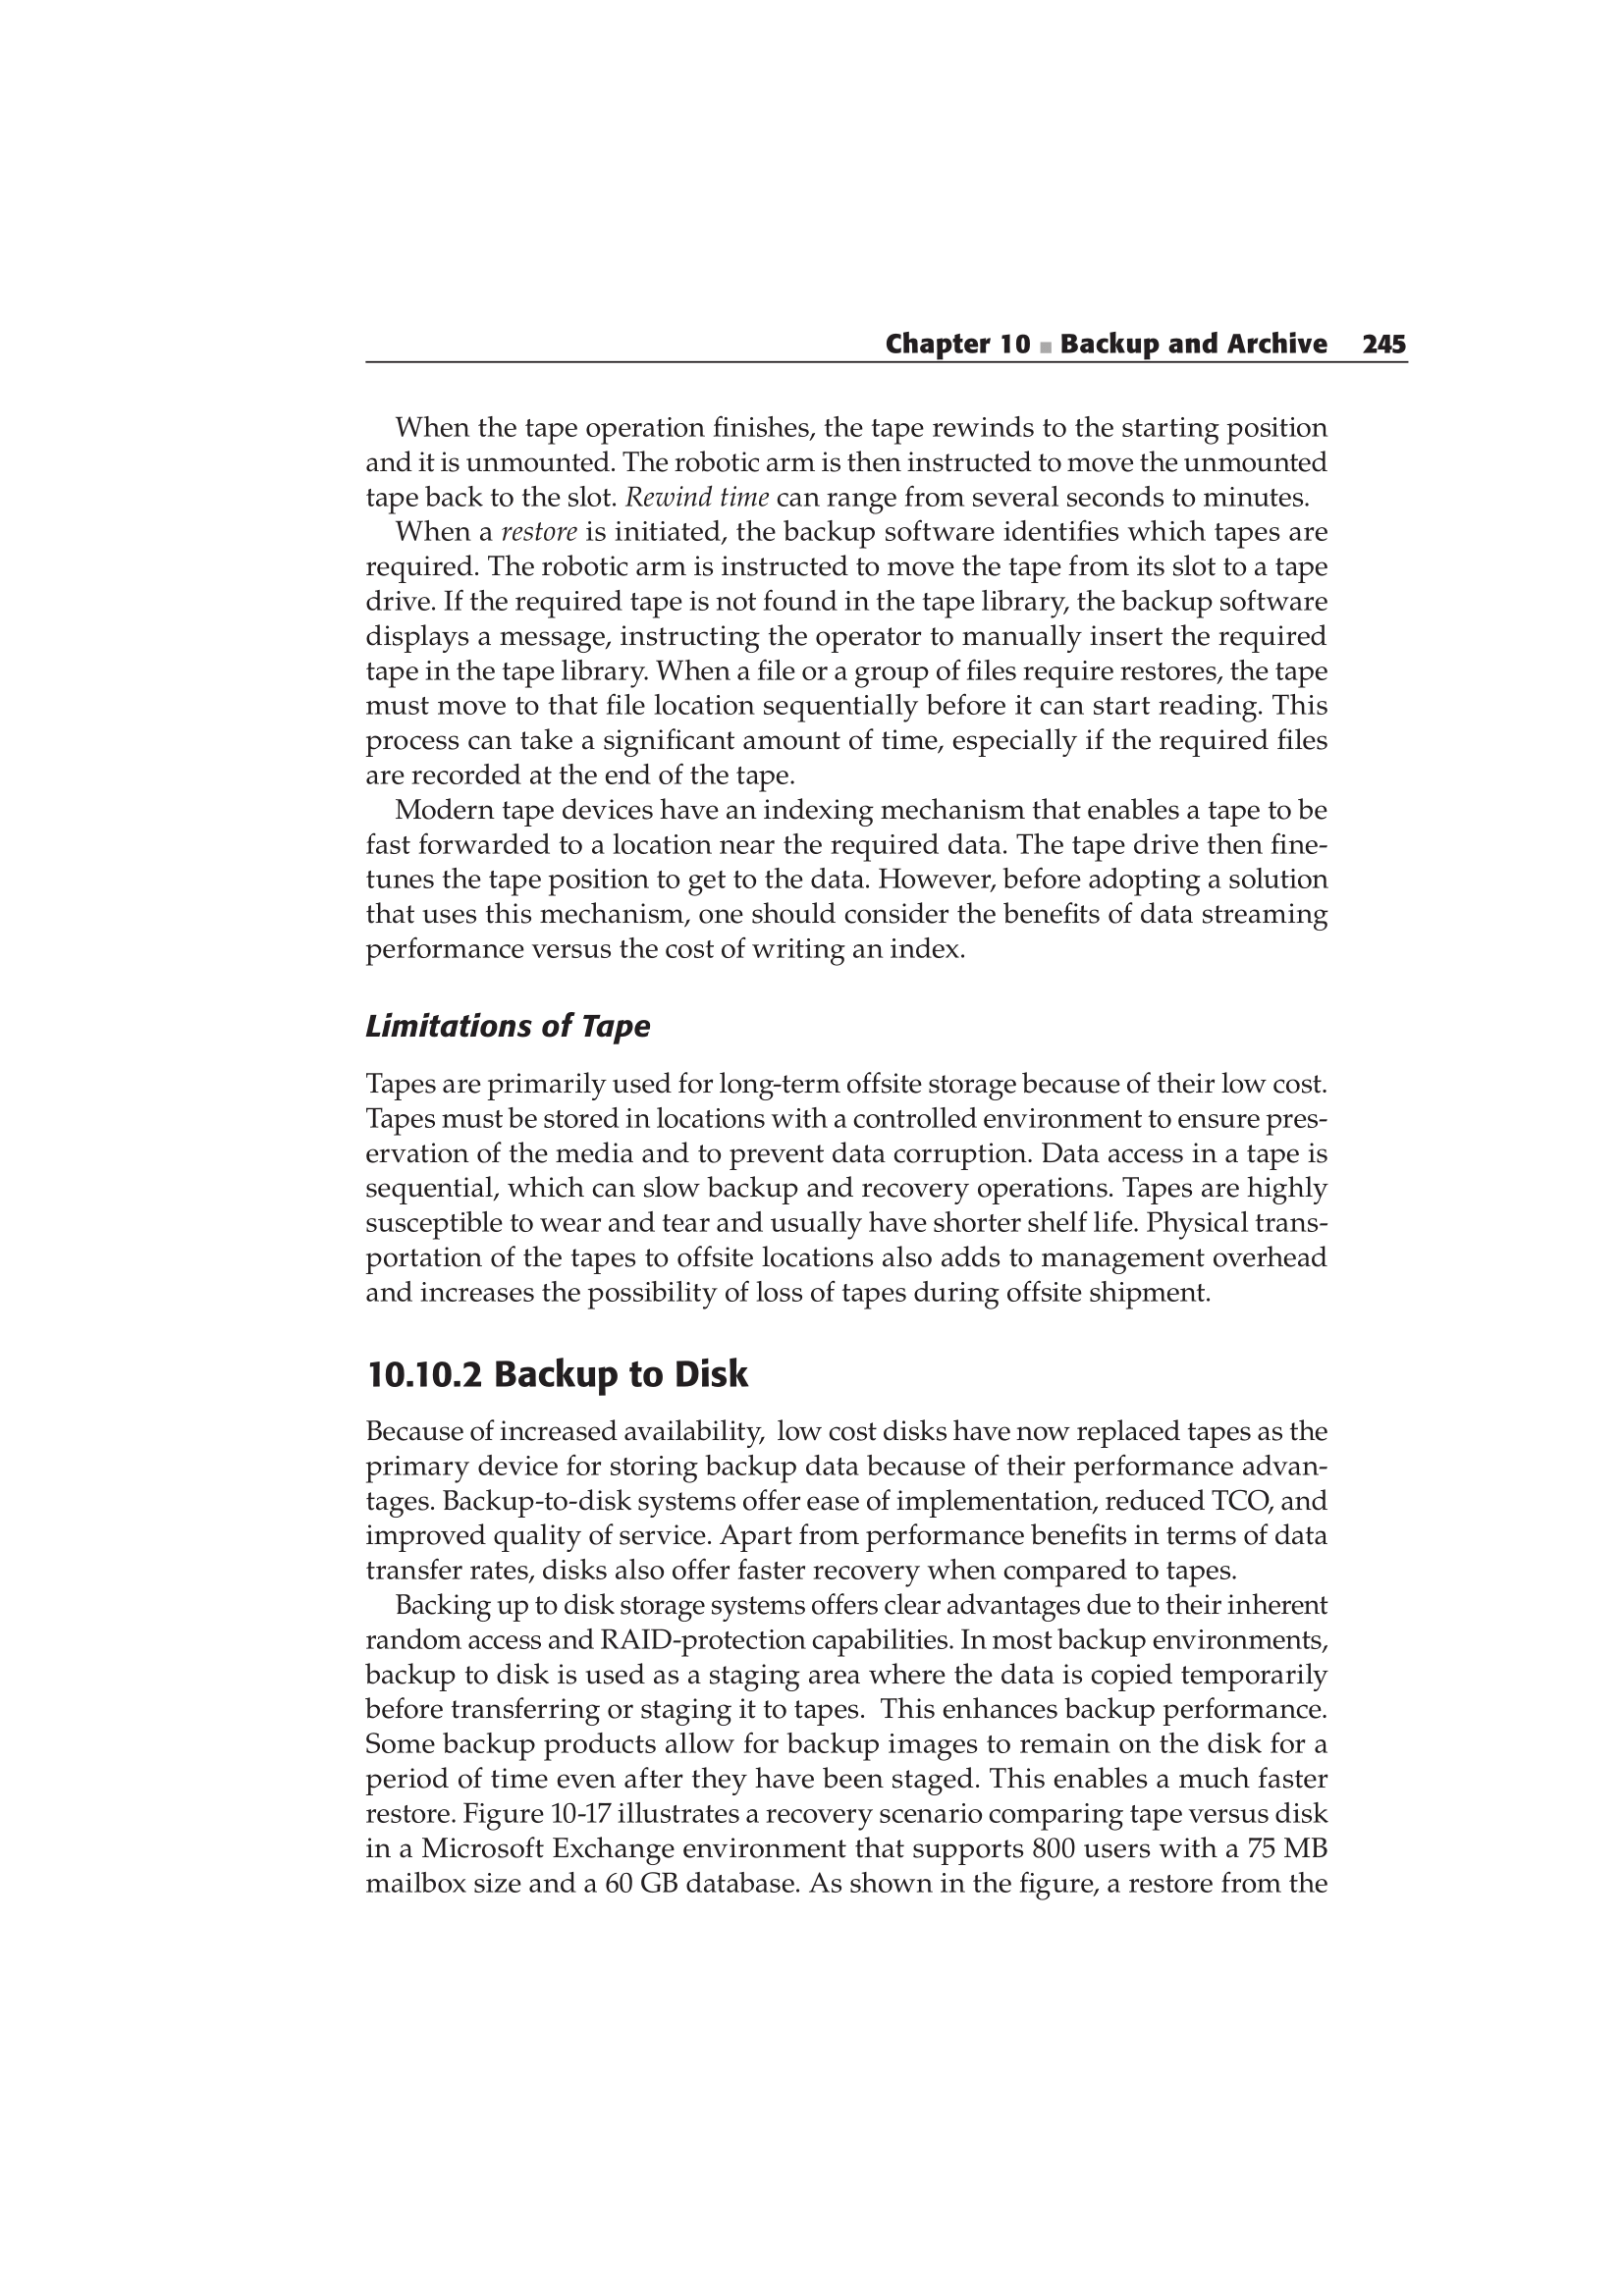Paragraph: (353, 1590, 1337, 1903), (365, 514, 1335, 790), (364, 1065, 1338, 1320), (355, 1410, 1335, 1592), (364, 793, 1338, 976), (365, 411, 1330, 507), (871, 314, 1430, 365), (362, 1341, 771, 1399), (358, 1004, 657, 1053)
